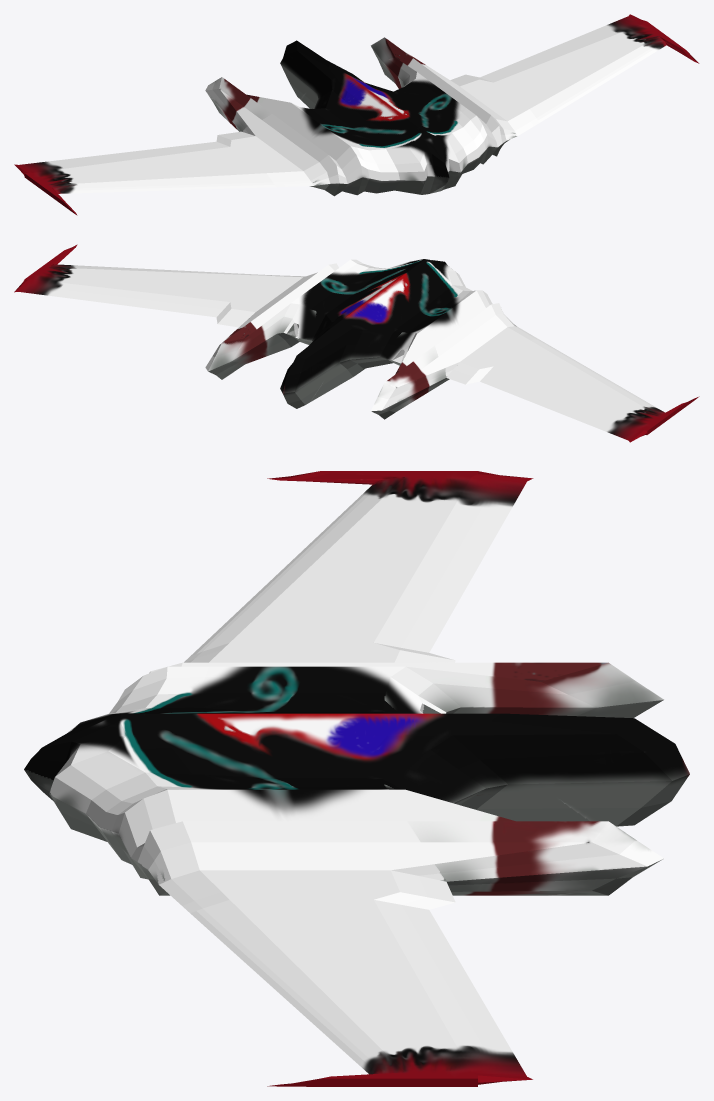
Rendered from SpeedyEnemyCompleteV2.fbx.
3 views of the same model, one above another, from view 1: azimuth 30°, elevation 25°; view 2: azimuth 150°, elevation 25°; view 3: azimuth 270°, elevation 25° (orthographic). The views are drawn at different scales.
Parts seen in each view (by area): view 1: Cube; view 2: Cube; view 3: Cube.
Part boxes in pixels (x1=…): Cube: x1=14, y1=14, x2=699, y2=215; Cube: x1=14, y1=244, x2=699, y2=442; Cube: x1=24, y1=471, x2=689, y2=1086.
Bounding box in the file's own units: 283 × 26.34 × 131.
